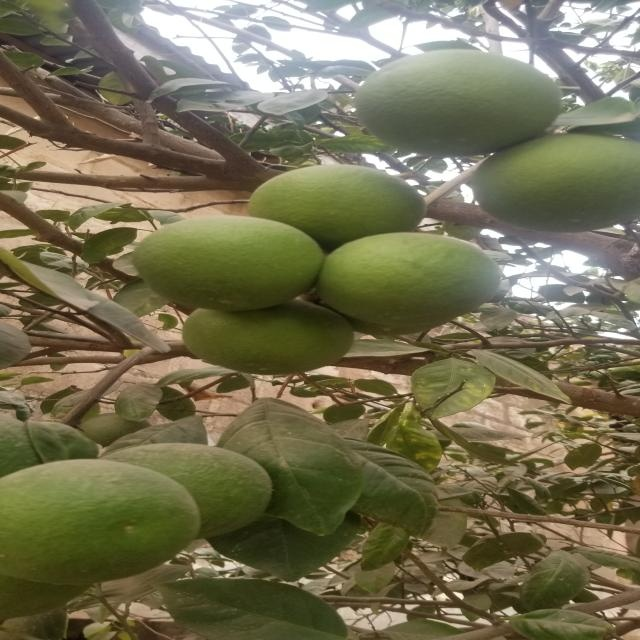agrume: (0, 448, 219, 592), (343, 44, 568, 159), (121, 208, 343, 319), (323, 219, 503, 337), (242, 160, 431, 251), (476, 135, 640, 238)
